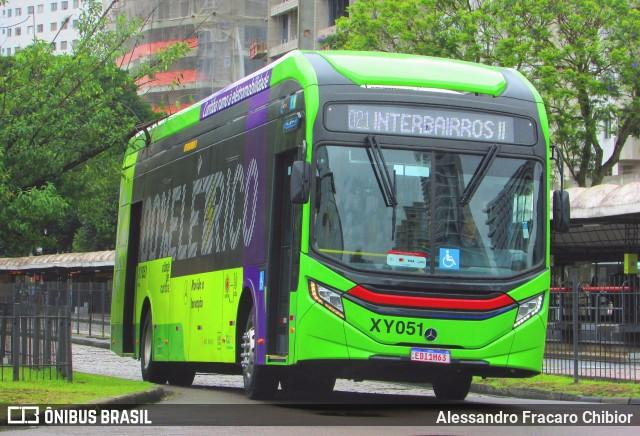INTERBAIRROS II: (371, 108, 512, 144)
